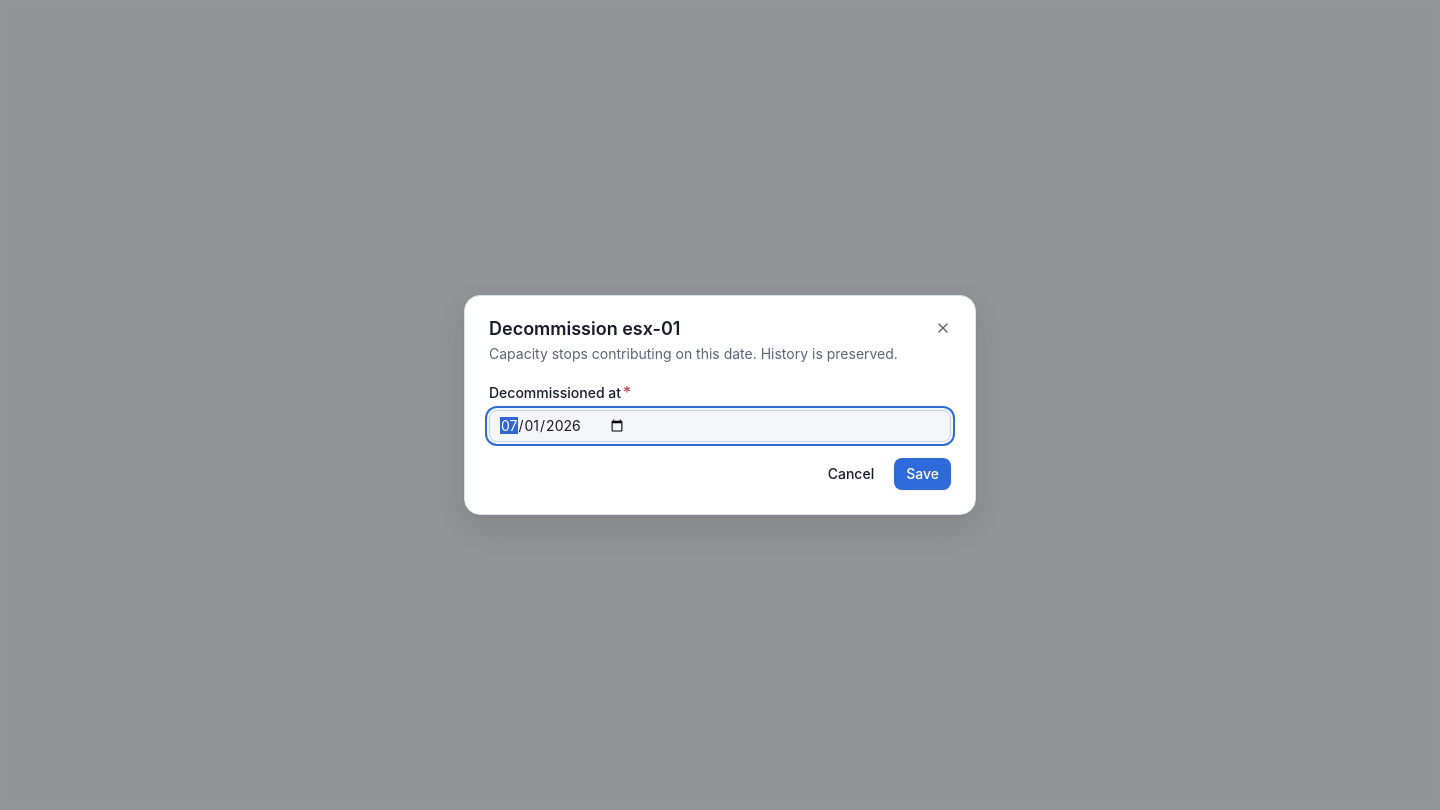
it: <DecommissionHostDialog> › shows the dialog's own error for a blank date, focuses the field, and sends nothing
Clear the date field labelled "Decommissioned at". click: (720, 426)
box: [489,410,951,442]
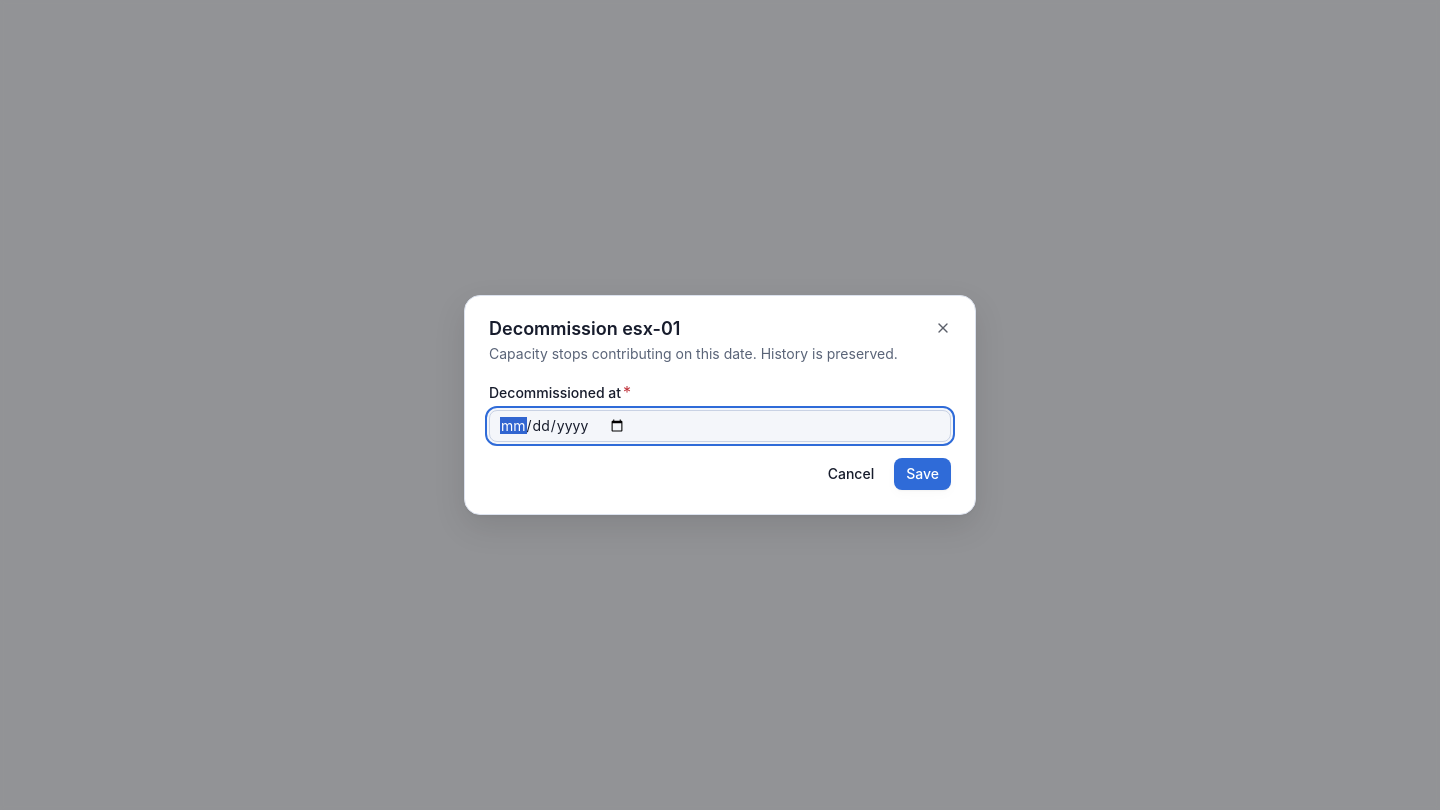
Click the button "Save". click: (923, 474)
box: [894,458,951,490]
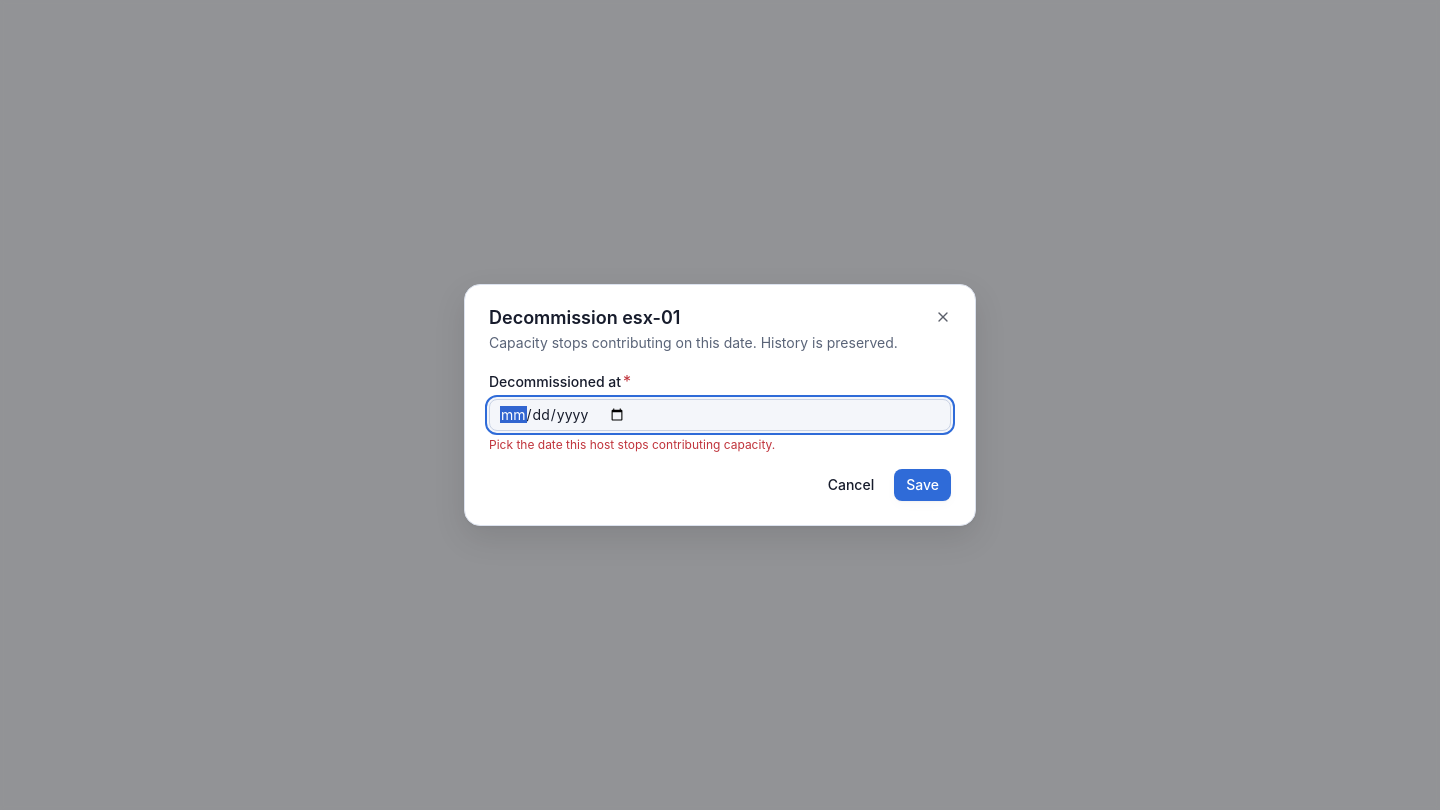
Expected: the text "Pick the date this host stops contributing capacity." is shown, [489,437,775,452]
